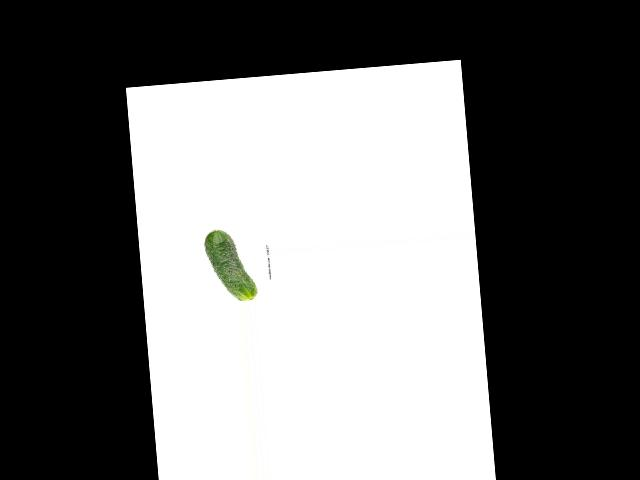cucumber: (203, 226, 258, 303)
